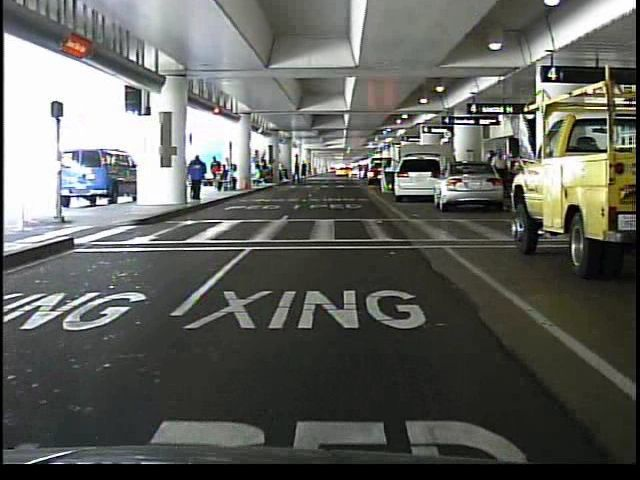person: (185, 152, 209, 204)
